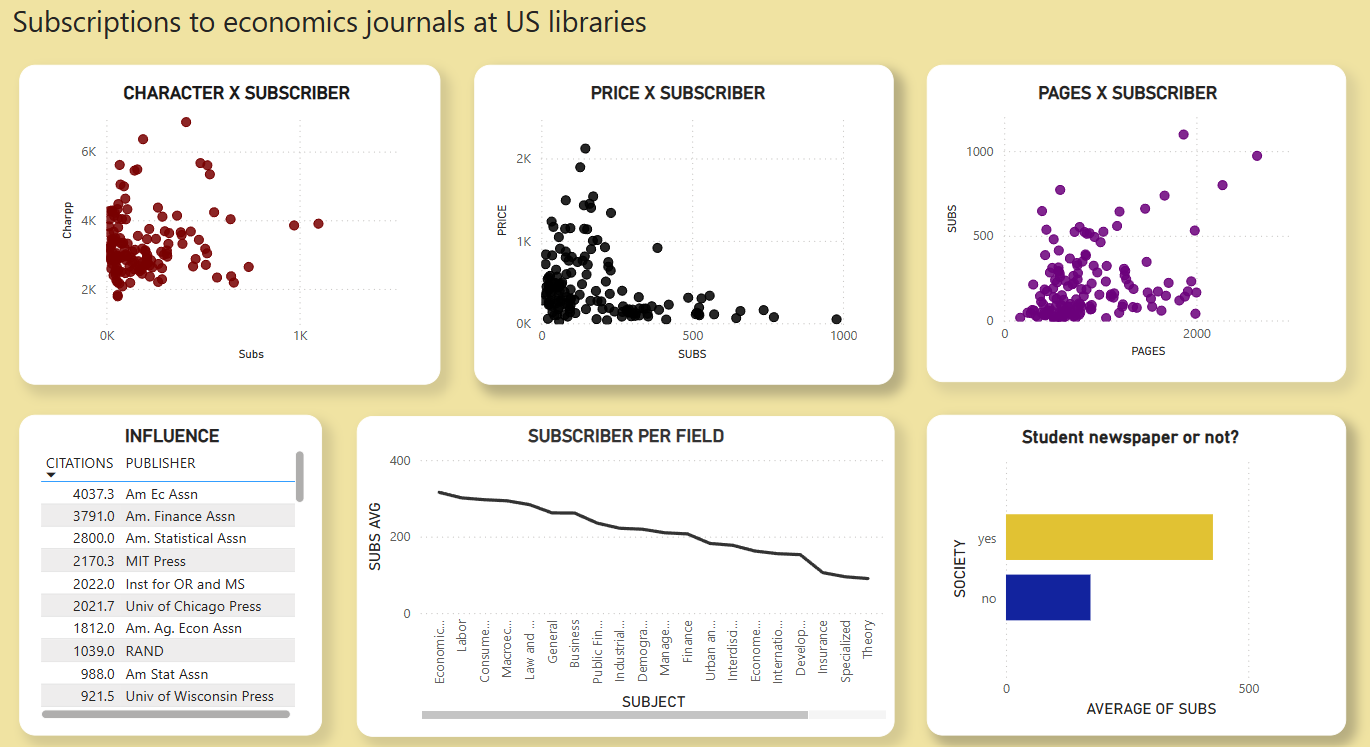

Layout of this report page (visuals, bound fields, positions):
{"tool":"powerbi","page":{"name":"Journal","canvas":[1280,720],"ordinal":0},"visuals":[{"type":"shape","box":[19.5,391,282.4,299.1],"z":0},{"type":"shape","box":[19.6,63.8,392.6,298.2],"z":1000},{"type":"shape","box":[335,391.4,501.8,299.4],"z":2000},{"type":"shape","box":[866.8,391,391,299.1],"z":3000},{"type":"shape","box":[866.3,63.8,391.4,295.7],"z":4000},{"type":"scatterChart","title":"CHARACTER X SUBSCRIBER ","fields":{"X":["journals charpp_subs.Subs"],"Y":["journals charpp_subs.charpp"]},"box":[39,79.3,352,267.1],"z":5000},{"type":"barChart","title":"Student newspaper or not?","fields":{"Category":["journals society_subs.society"],"Y":["Avg(journals society_subs.Subs)"]},"box":[883.5,399.3,359,279.7],"z":6000},{"type":"lineChart","title":"SUBSCRIBER PER FIELD","fields":{"Category":["journals field_avg_subs.subject"],"Y":["Sum(journals field_avg_subs.Subs_Avg)"]},"box":[338.1,399.3,495.3,279.7],"z":7000},{"type":"textbox","box":[0,0,618.4,47.9],"z":8000},{"type":"tableEx","title":"INFLUENCE","fields":{"Values":["journals influence.Citations","journals influence.publisher"]},"box":[33.4,399.3,257.4,279.7],"z":9000},{"type":"scatterChart","title":"PAGES X SUBSCRIBER","fields":{"Y":["journals pages_subs.Subs"],"X":["journals pages_subs.pages"]},"box":[878.9,79.6,362.7,264.5],"z":10000},{"type":"shape","box":[444.2,63.8,391.4,298.2],"z":11000},{"type":"scatterChart","title":"PRICE X SUBSCRIBER","fields":{"X":["journals price_subs.Subs"],"Y":["journals price_subs.price"]},"box":[459.1,79.3,363.1,267.1],"z":12000}]}

Visuals, with their boxes on the page's 1280x720 design canvas (x1, y1, x2, y2). These are canvas units, not pixel positions in the 1370x747 screenshot, which may show the page scaled, cropped or inside an application window:
shape: crop(20, 391, 302, 690)
shape: crop(20, 64, 412, 362)
shape: crop(335, 391, 837, 691)
shape: crop(867, 391, 1258, 690)
shape: crop(866, 64, 1258, 360)
"CHARACTER X SUBSCRIBER " scatterChart: crop(39, 79, 391, 346)
"Student newspaper or not?" barChart: crop(884, 399, 1242, 679)
"SUBSCRIBER PER FIELD" lineChart: crop(338, 399, 833, 679)
textbox: crop(0, 0, 618, 48)
"INFLUENCE" tableEx: crop(33, 399, 291, 679)
"PAGES X SUBSCRIBER" scatterChart: crop(879, 80, 1242, 344)
shape: crop(444, 64, 836, 362)
"PRICE X SUBSCRIBER" scatterChart: crop(459, 79, 822, 346)
